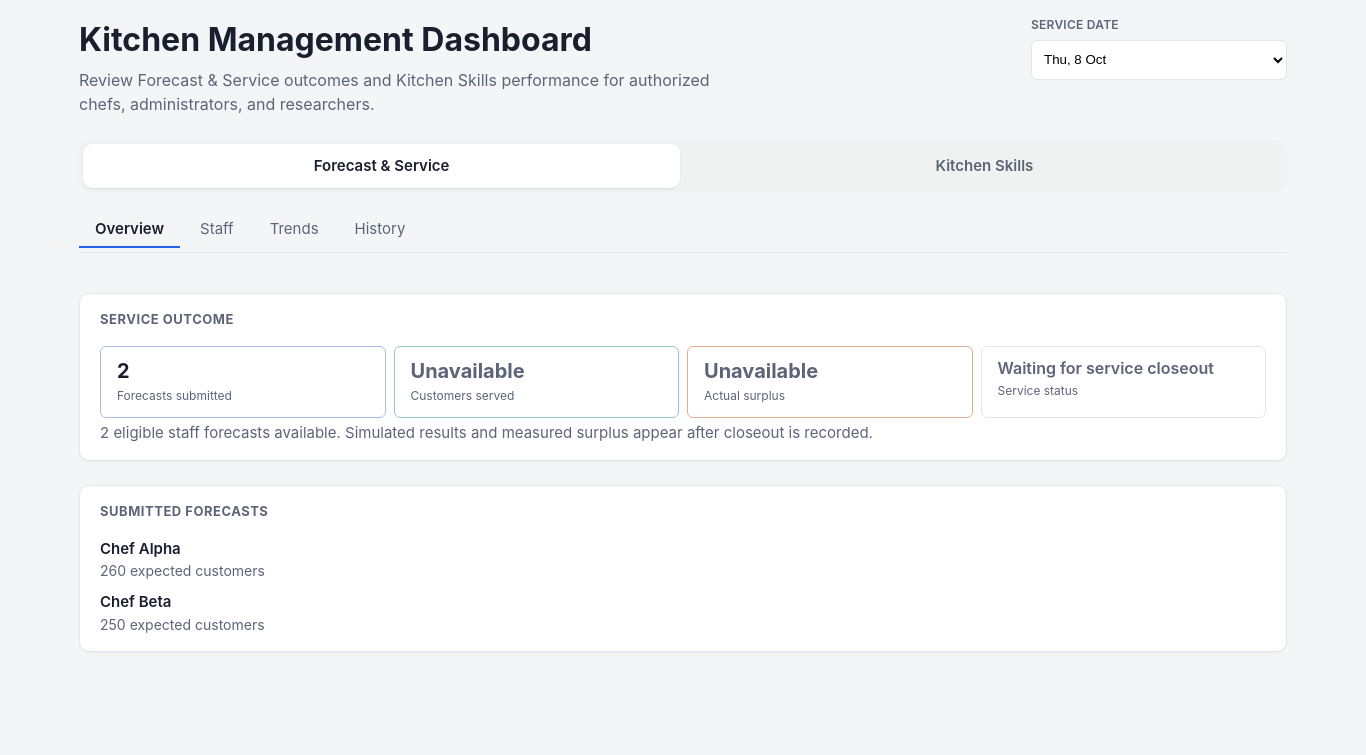
unified Kitchen Management Dashboard › shows Forecast service-date selector only in Forecast & Service
expect the dropdown with test id "chef-results-admin-date-select" is shown: met, box [1031,40,1287,80]
Step 1. Click the tab with test id "kitchen-mgmt-area-tab-skills" → (984, 166), box [686,144,1283,188]
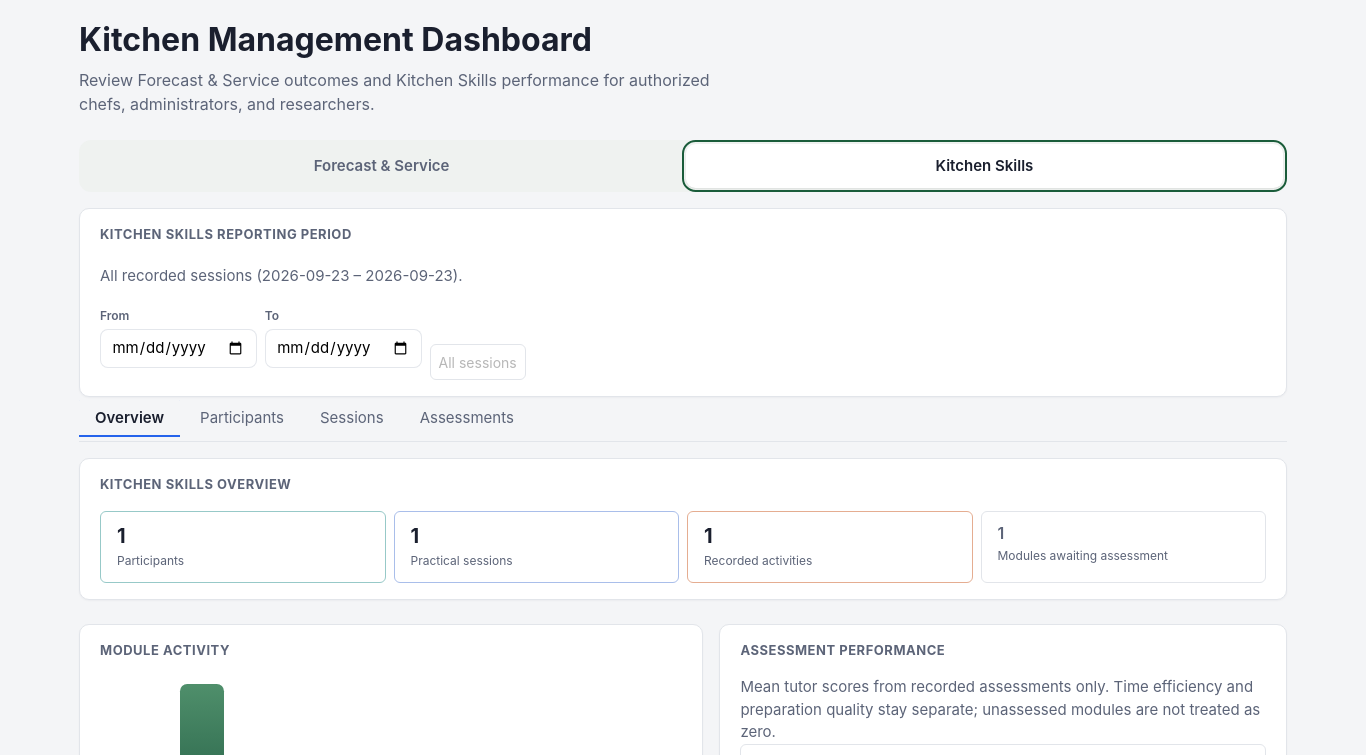
expect the dropdown with test id "chef-results-admin-date-select" is gone: met
expect the element with test id "kitchen-mgmt-skills-reporting-period" is shown: met, box [79,208,1287,397]
expect the text with test id "kitchen-mgmt-skills-period-default" shows "All recorded sessions": met, box [100,266,463,284]
Step 2. Click the tab with test id "kitchen-mgmt-area-tab-forecast" → (382, 166), box [83,144,680,188]
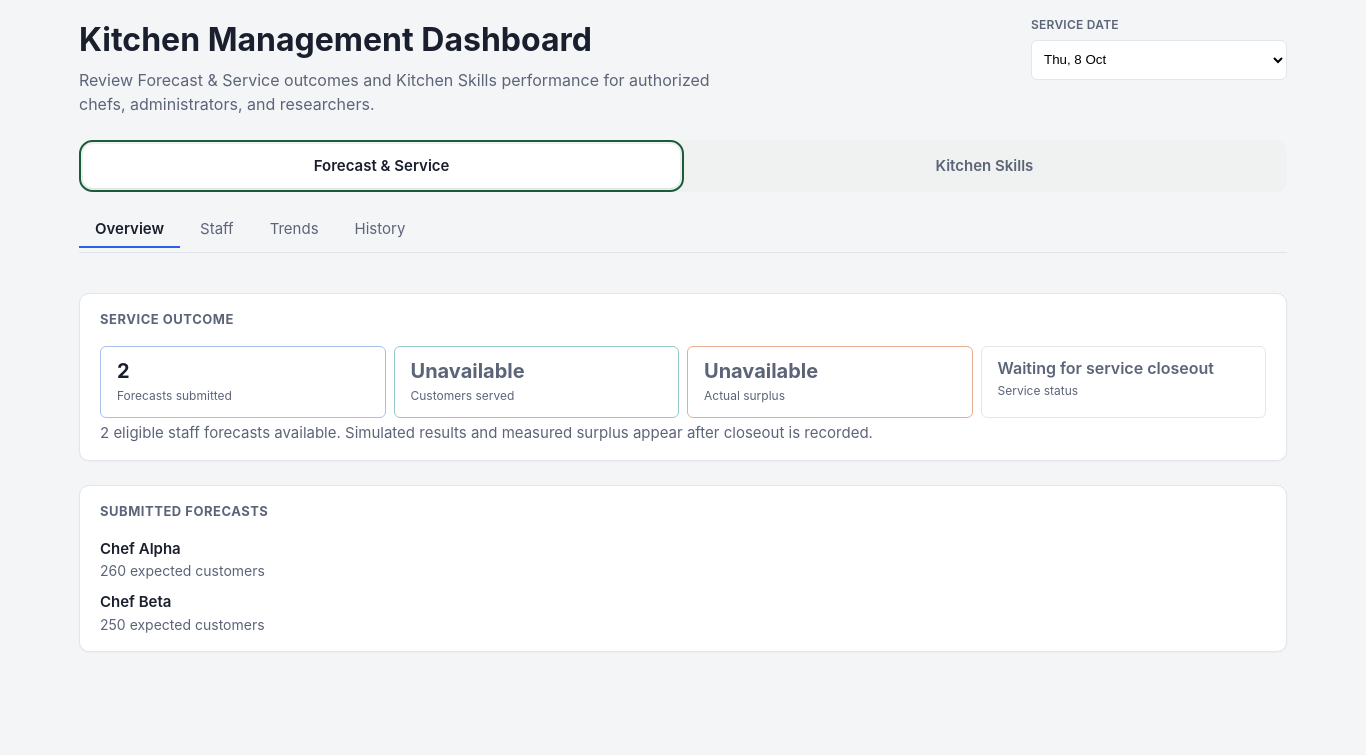
expect the dropdown with test id "chef-results-admin-date-select" is shown: met, box [1031,40,1287,80]
